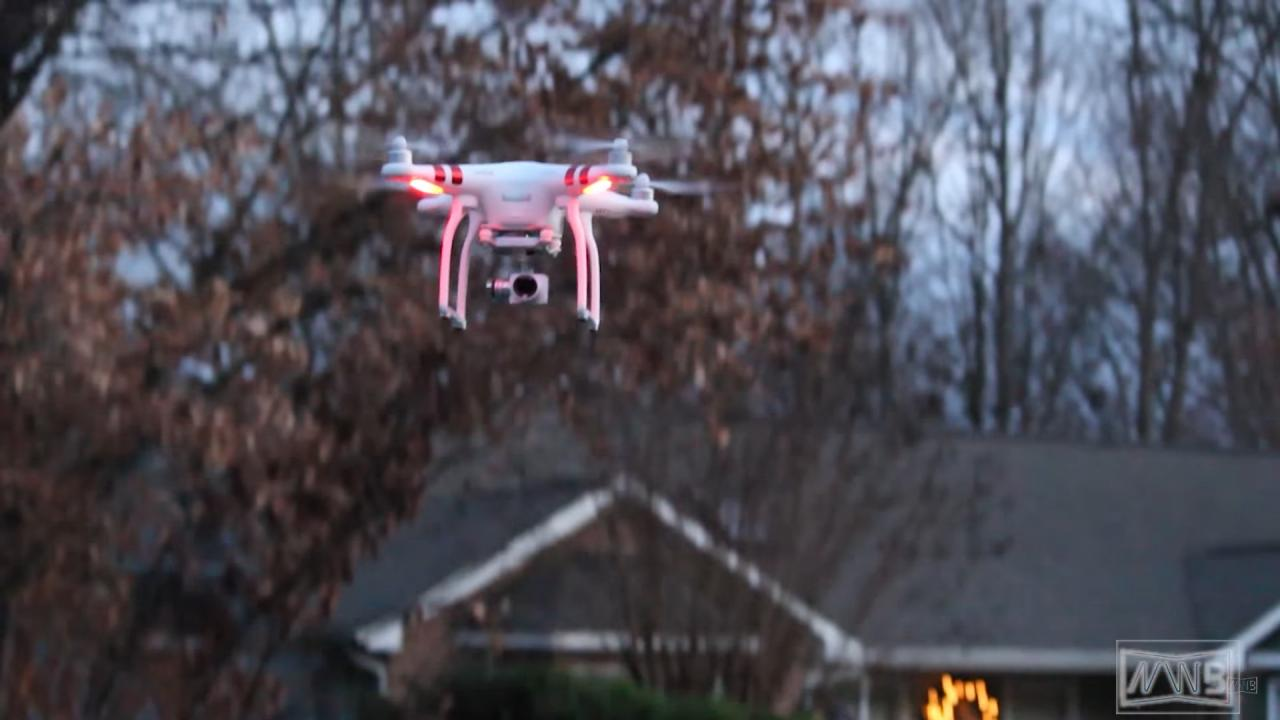Drone: (322, 119, 745, 336)
